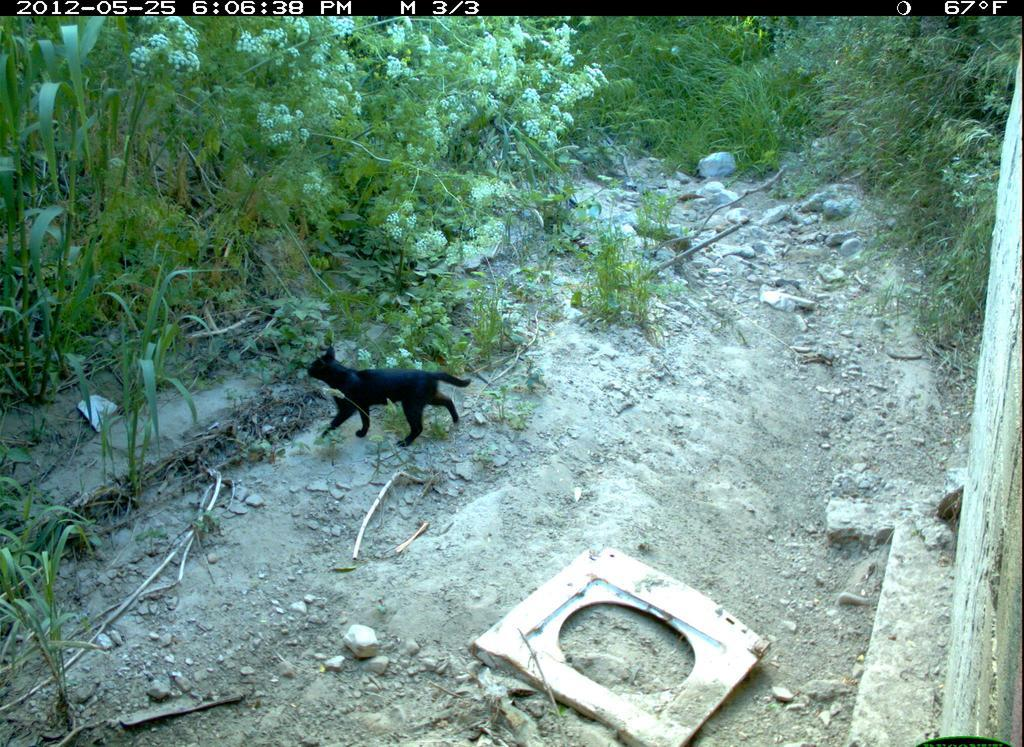cat: (301, 342, 477, 451)
